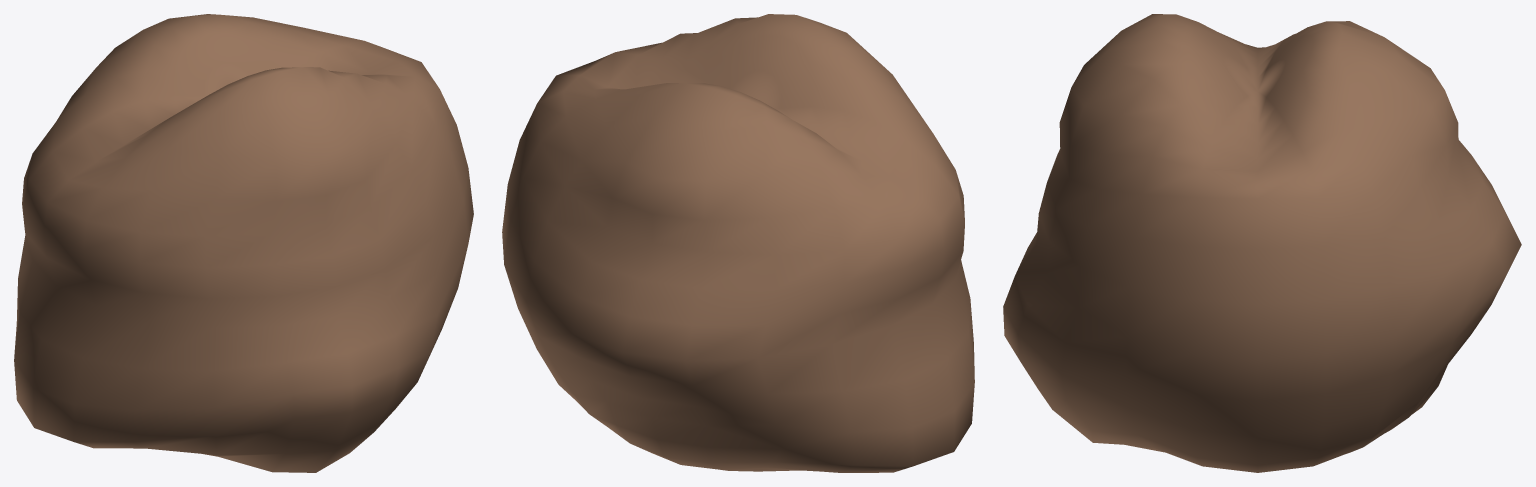
Rendered from CrumbMedium.fbx.
3 views of the same model, side by side, from view 1: azimuth 30°, elevation 25°; view 2: azimuth 150°, elevation 25°; view 3: azimuth 270°, elevation 25° (orthographic). The views are drawn at different scales.
Visible parts, largest first — view 1: pSphere2; view 2: pSphere2; view 3: pSphere2.
Boxes of the visible parts, left/top/right/bottom form: pSphere2: left=14, top=14, right=473, bottom=472; pSphere2: left=502, top=14, right=974, bottom=472; pSphere2: left=1003, top=14, right=1521, bottom=472.
Size of the model in its own units: 1.18 by 1.05 by 1.17.
